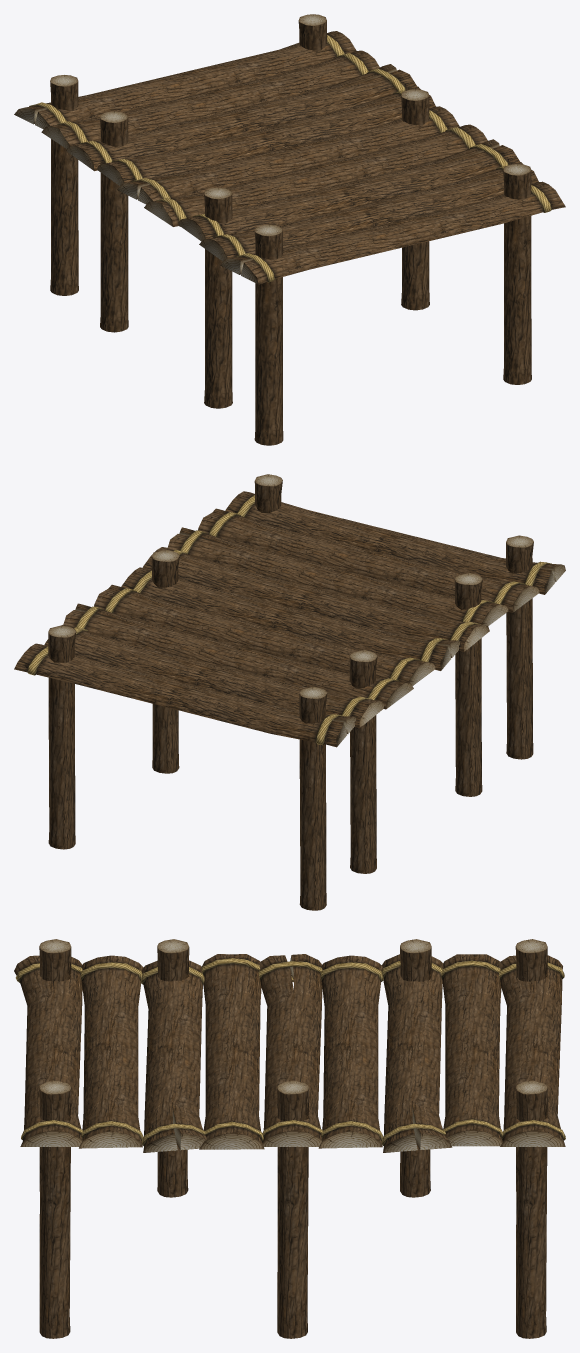
Rendered from WoodPlatformSmall1.obj.
3 renders of one model, top to bottom at view 1: azimuth 30°, elevation 25°; view 2: azimuth 150°, elevation 25°; view 3: azimuth 270°, elevation 25°, orthographic. The views are drawn at different scales.
Visible parts, largest first — view 1: Mesh; view 2: Mesh; view 3: Mesh.
Part boxes in pixels (x1,y1,x2,y2): Mesh: (14,14,565,445); Mesh: (14,474,565,910); Mesh: (14,939,565,1338).
Size of the model in its own units: 4.19 by 2.56 by 5.23.
